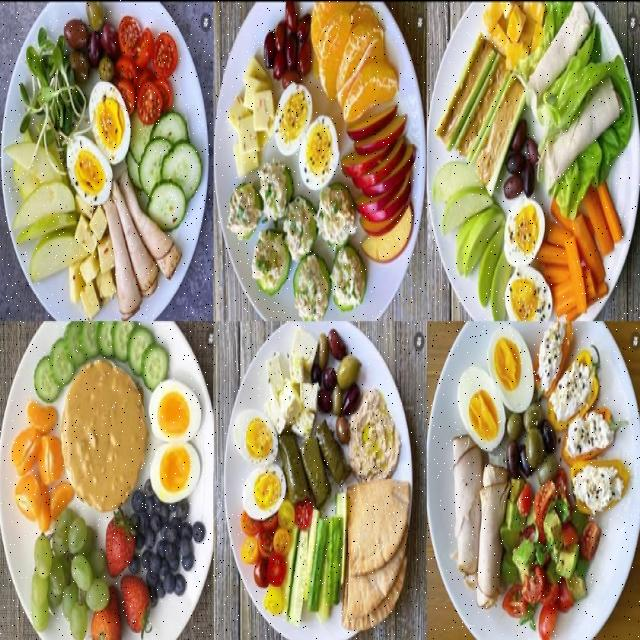Egg: (457, 324, 534, 451), (67, 81, 130, 205), (273, 82, 339, 190), (149, 379, 202, 502), (505, 197, 553, 321), (233, 409, 286, 520)
Fruits: (433, 161, 513, 320), (6, 135, 87, 281), (342, 107, 415, 262), (311, 3, 398, 131), (30, 509, 109, 640), (129, 481, 205, 608), (11, 402, 72, 532), (90, 513, 151, 640), (481, 1, 545, 70), (505, 401, 557, 483), (264, 1, 311, 86), (503, 122, 538, 200)
Green veg: (228, 159, 366, 320), (533, 24, 632, 217), (436, 35, 525, 192), (34, 321, 169, 401), (20, 28, 88, 171), (126, 111, 203, 230), (287, 494, 345, 624), (279, 423, 351, 508), (517, 1, 573, 82)
Non green veg: (537, 320, 629, 514), (501, 471, 600, 640), (534, 185, 622, 320), (240, 500, 314, 614), (113, 16, 178, 124), (64, 3, 119, 82)
Pork: (103, 174, 181, 317), (453, 435, 509, 609)
